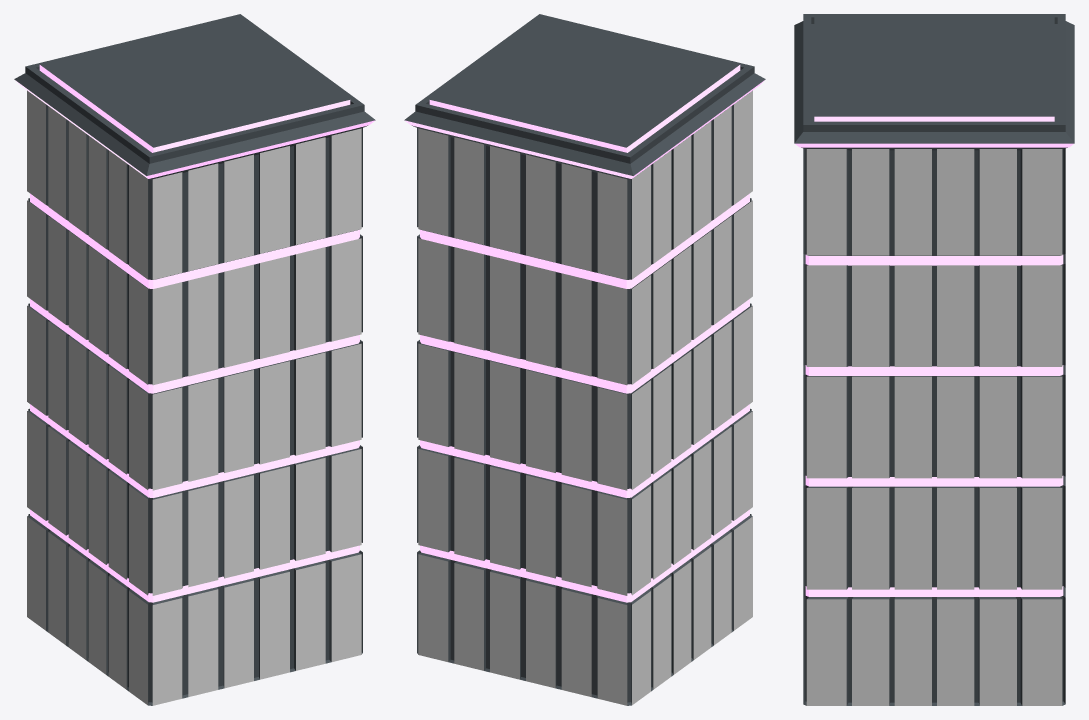
File: Home2.fbx
3 views of the same model, side by side, from view 1: azimuth 30°, elevation 25°; view 2: azimuth 150°, elevation 25°; view 3: azimuth 270°, elevation 25° (orthographic). The views are drawn at different scales.
Parts seen in each view (by area): view 1: Cube.003; view 2: Cube.003; view 3: Cube.003.
Part boxes in pixels (left/top/right/bottom): Cube.003: left=14, top=14, right=375, bottom=705; Cube.003: left=404, top=14, right=765, bottom=705; Cube.003: left=794, top=14, right=1074, bottom=705.
Size of the model in its own units: 320 by 737 by 320.
